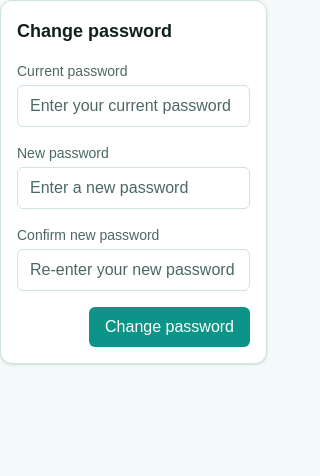
Test case: ChangePasswordForm › shows returned issues when the request fails
In the password field labelled "Current password": (134, 106) [17, 85, 250, 127], type "Current1!"
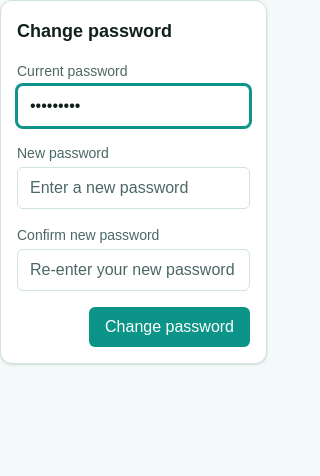
In the password field labelled "New password": (134, 188) [17, 167, 250, 209], type "Newpass1!"
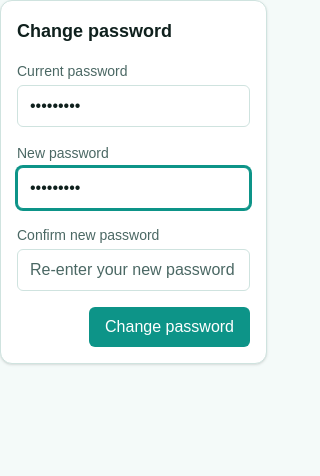
In the password field labelled "Confirm new password": (134, 270) [17, 249, 250, 291], type "Newpass1!"
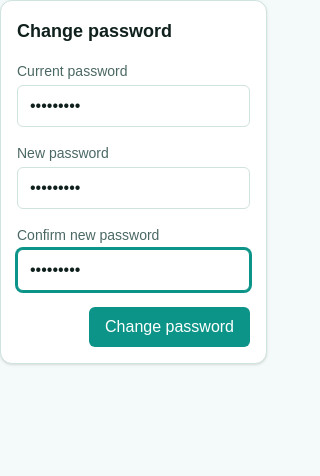
Click the button "Change password": (170, 327) [89, 307, 250, 347]
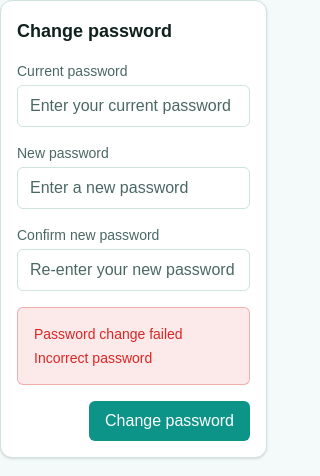
expect the text "Incorrect password" is shown: met, box [34, 350, 152, 366]
expect the text "Password change failed" is shown: met, box [34, 326, 183, 342]
